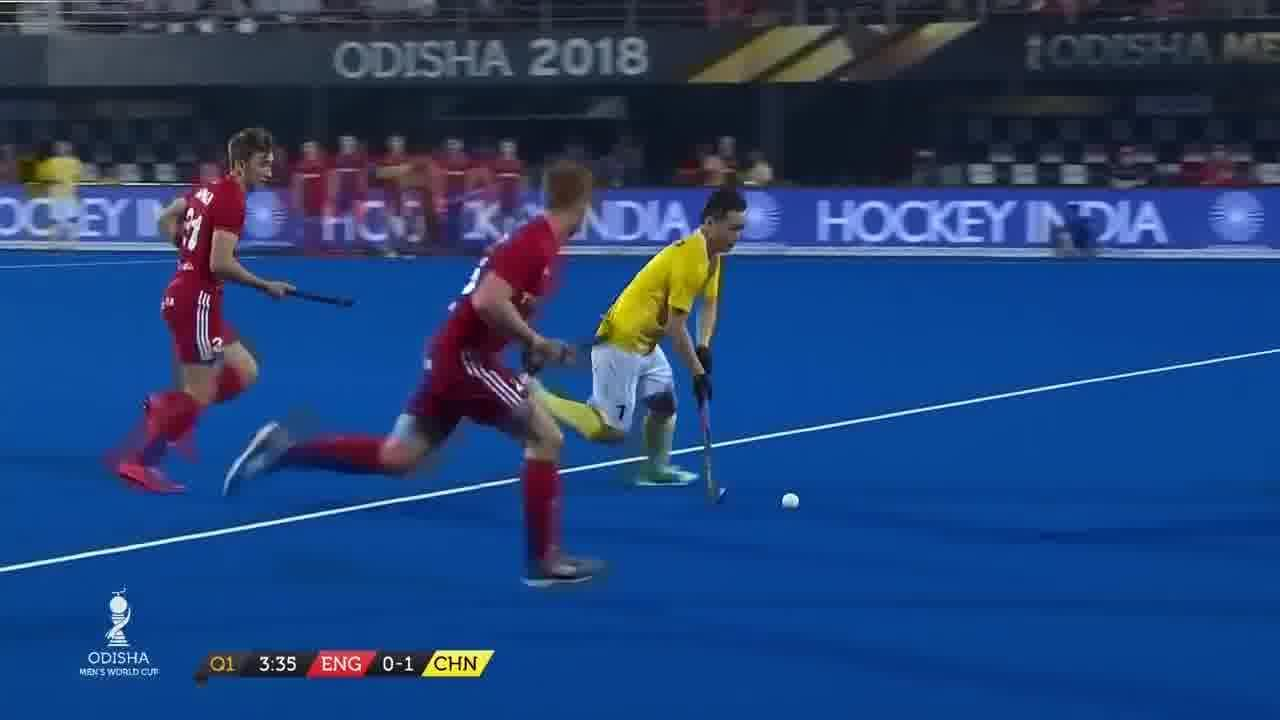ball: (780, 486, 802, 514)
